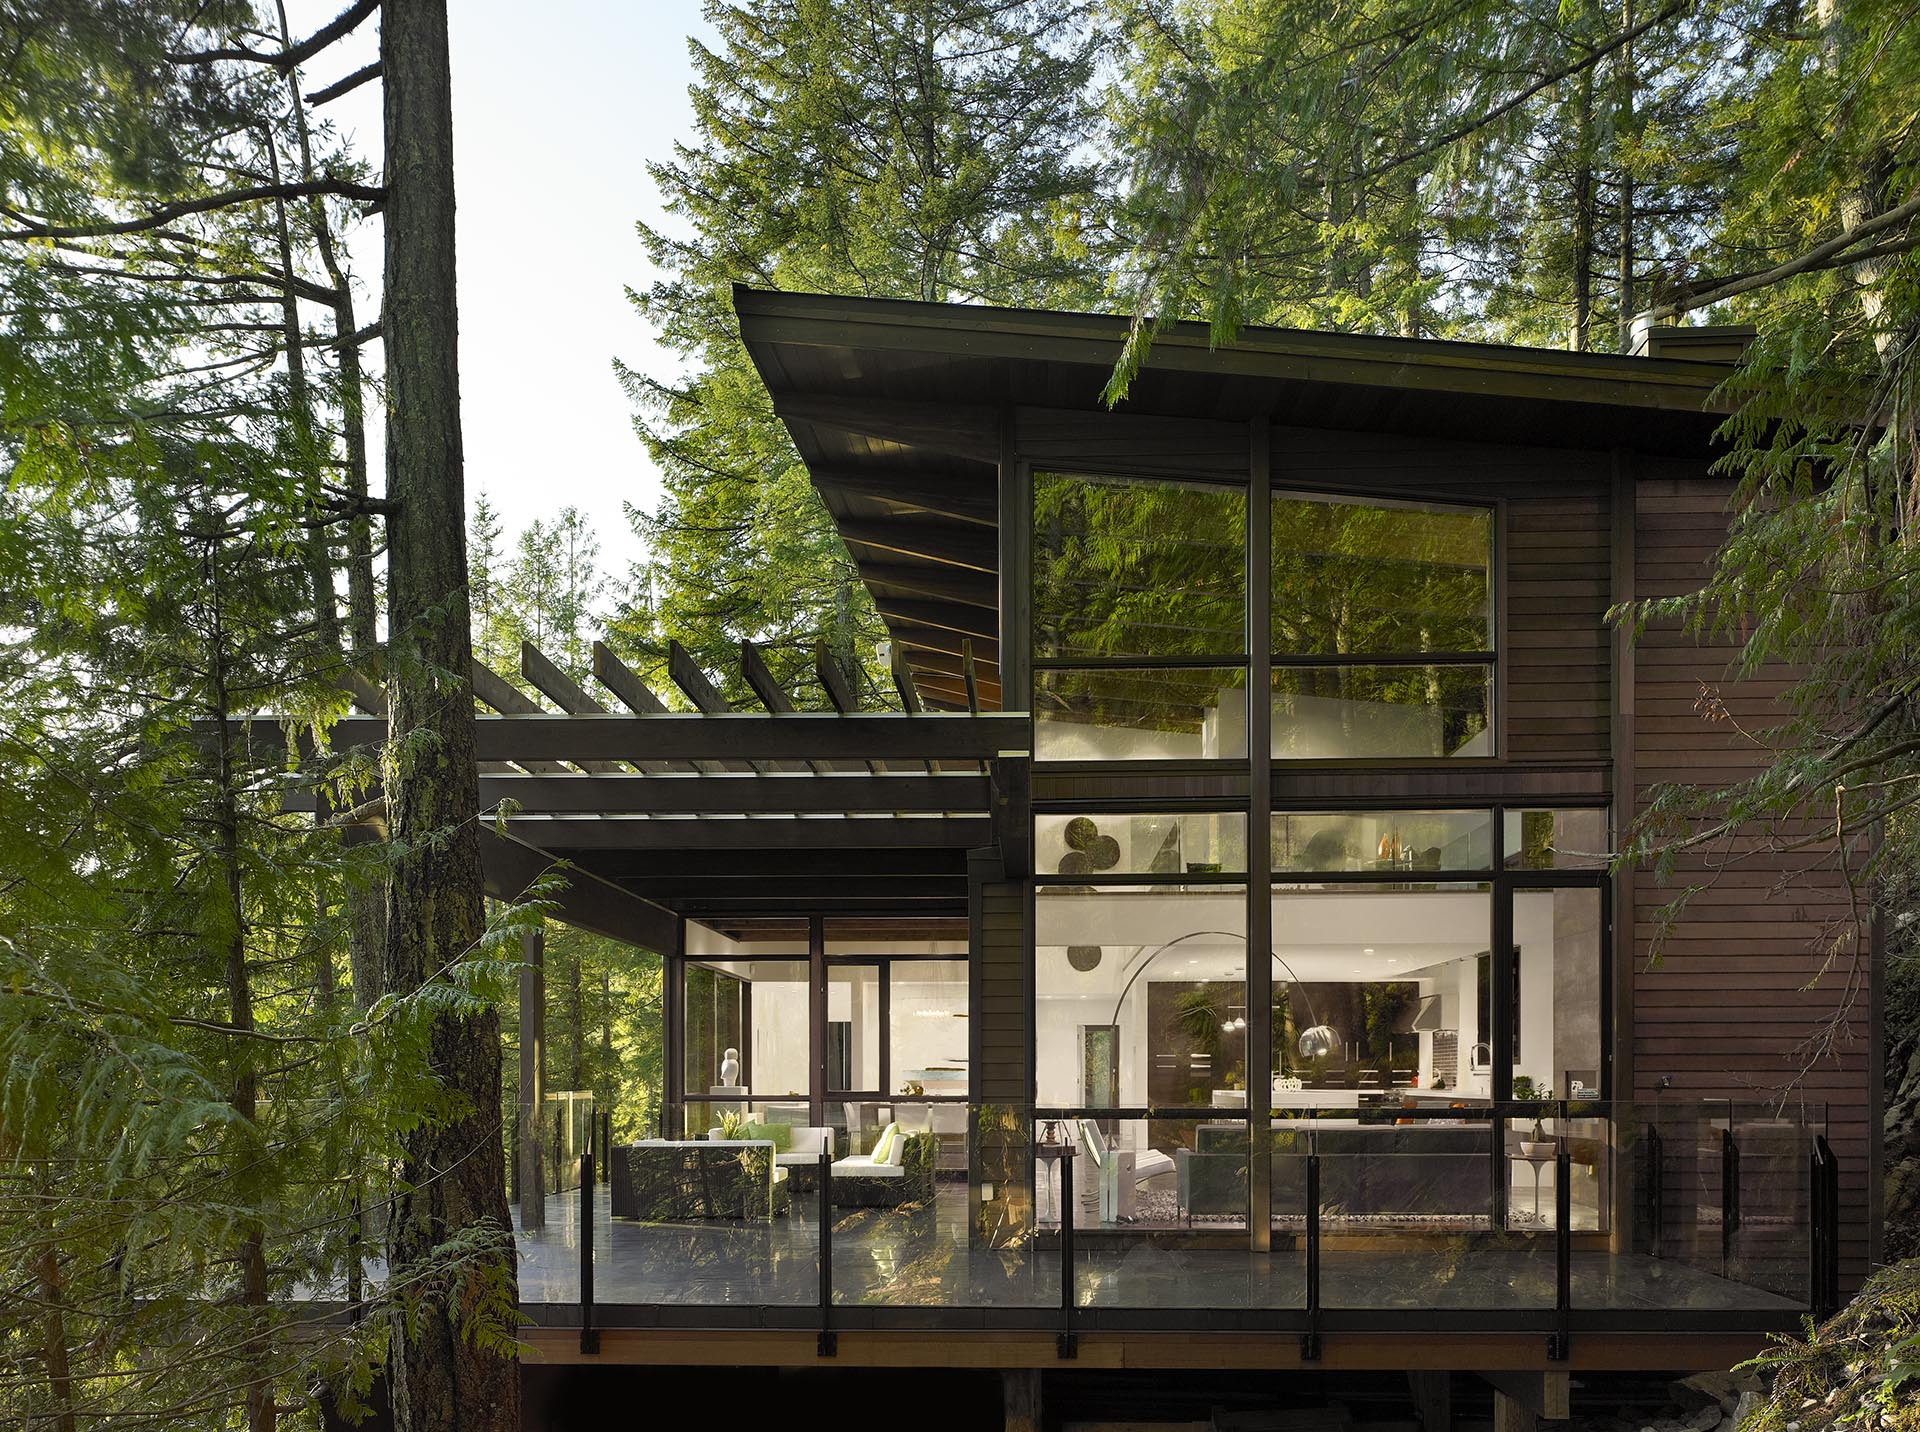Window: (1025, 451, 1613, 1245), (674, 910, 973, 1199)
